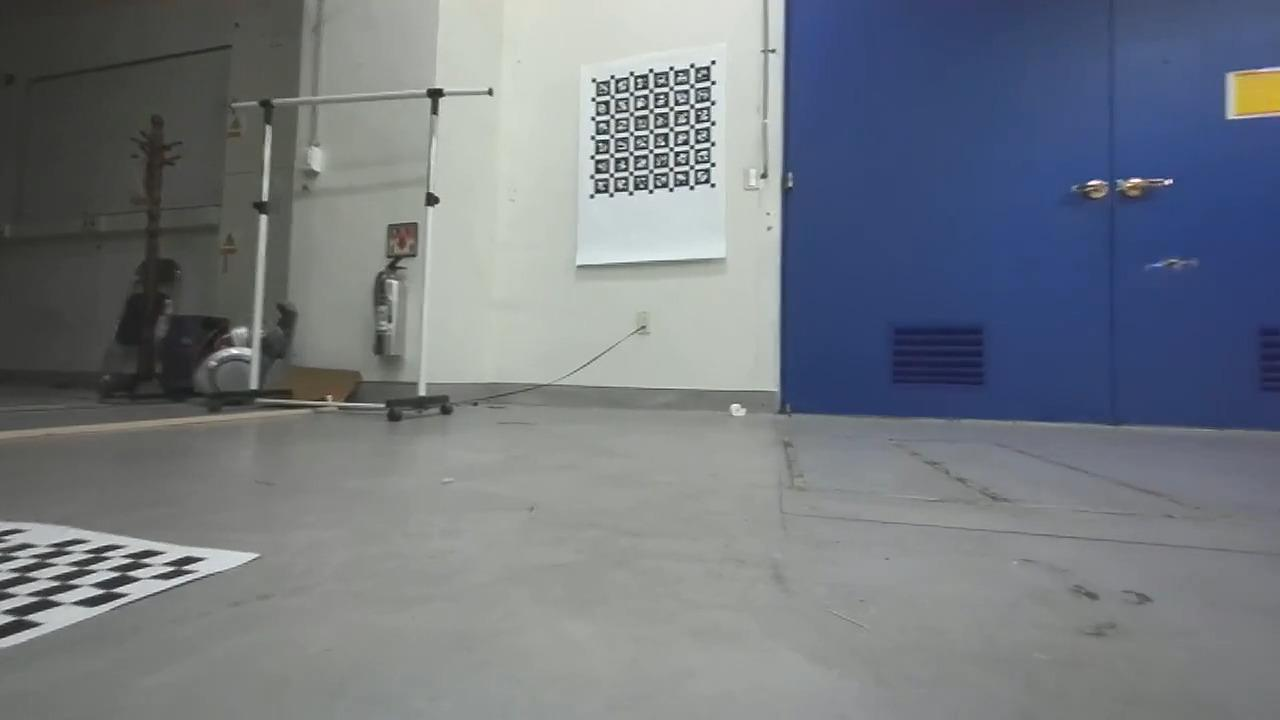crazyflie: (1138, 253, 1201, 274)
